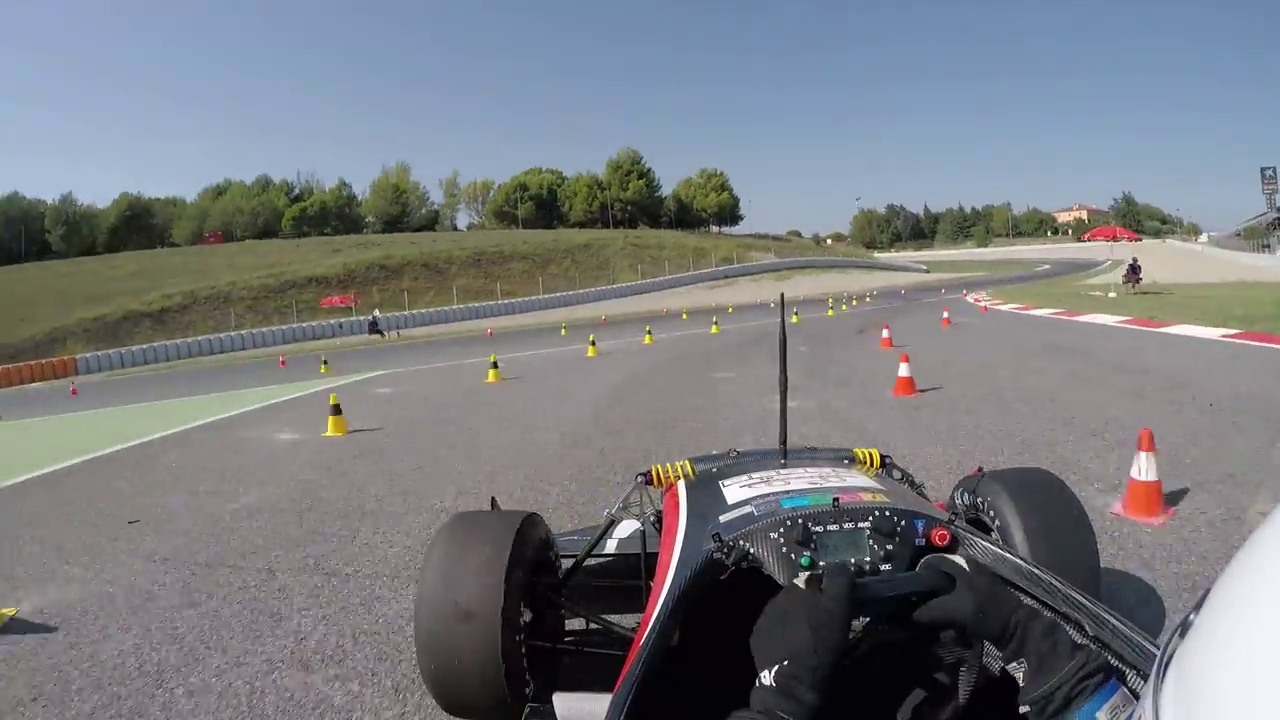Cone: (1109, 427, 1180, 532), (888, 350, 926, 399), (325, 390, 352, 439), (485, 350, 507, 381), (877, 321, 898, 353)
